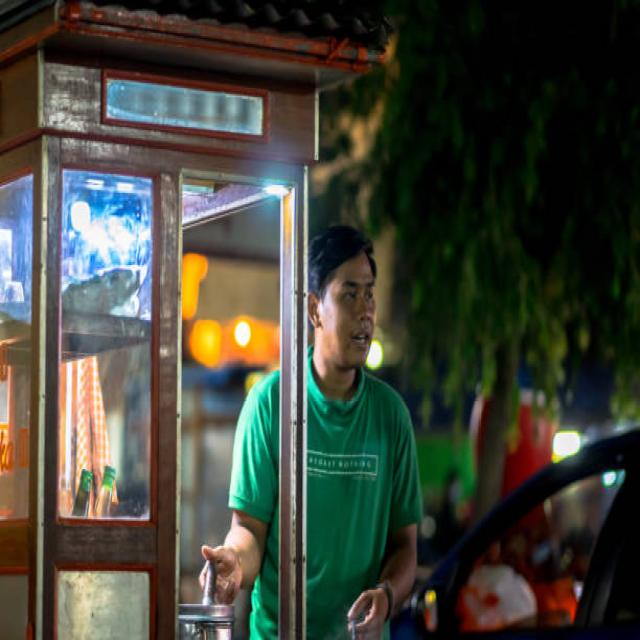Emperan: (0, 10, 405, 640)
